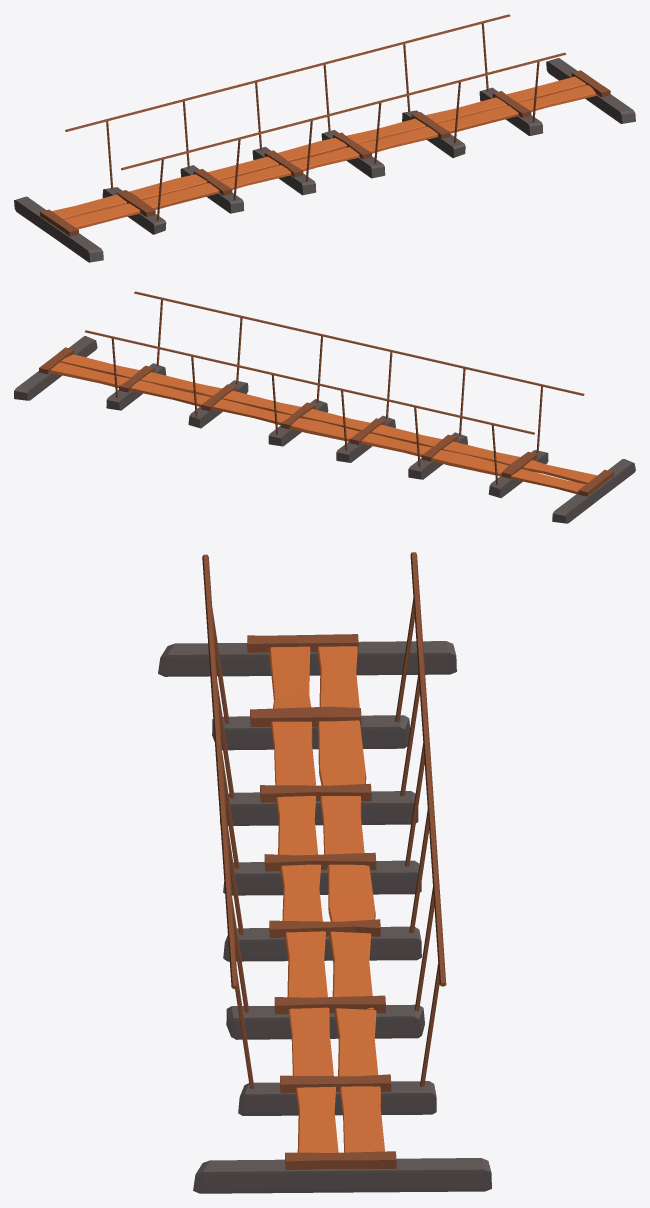
File: Bridge .fbx
3 views of the same model, one above another, from view 1: azimuth 30°, elevation 25°; view 2: azimuth 150°, elevation 25°; view 3: azimuth 270°, elevation 25° (orthographic). The views are drawn at different scales.
Parts seen in each view (by area): view 1: Bridge; view 2: Bridge; view 3: Bridge.
Part boxes in pixels (left/top/right/bottom): Bridge: left=14, top=14, right=635, bottom=262; Bridge: left=14, top=291, right=635, bottom=523; Bridge: left=158, top=552, right=491, bottom=1193.
Size of the model in its own units: 733 by 96.98 by 195.
